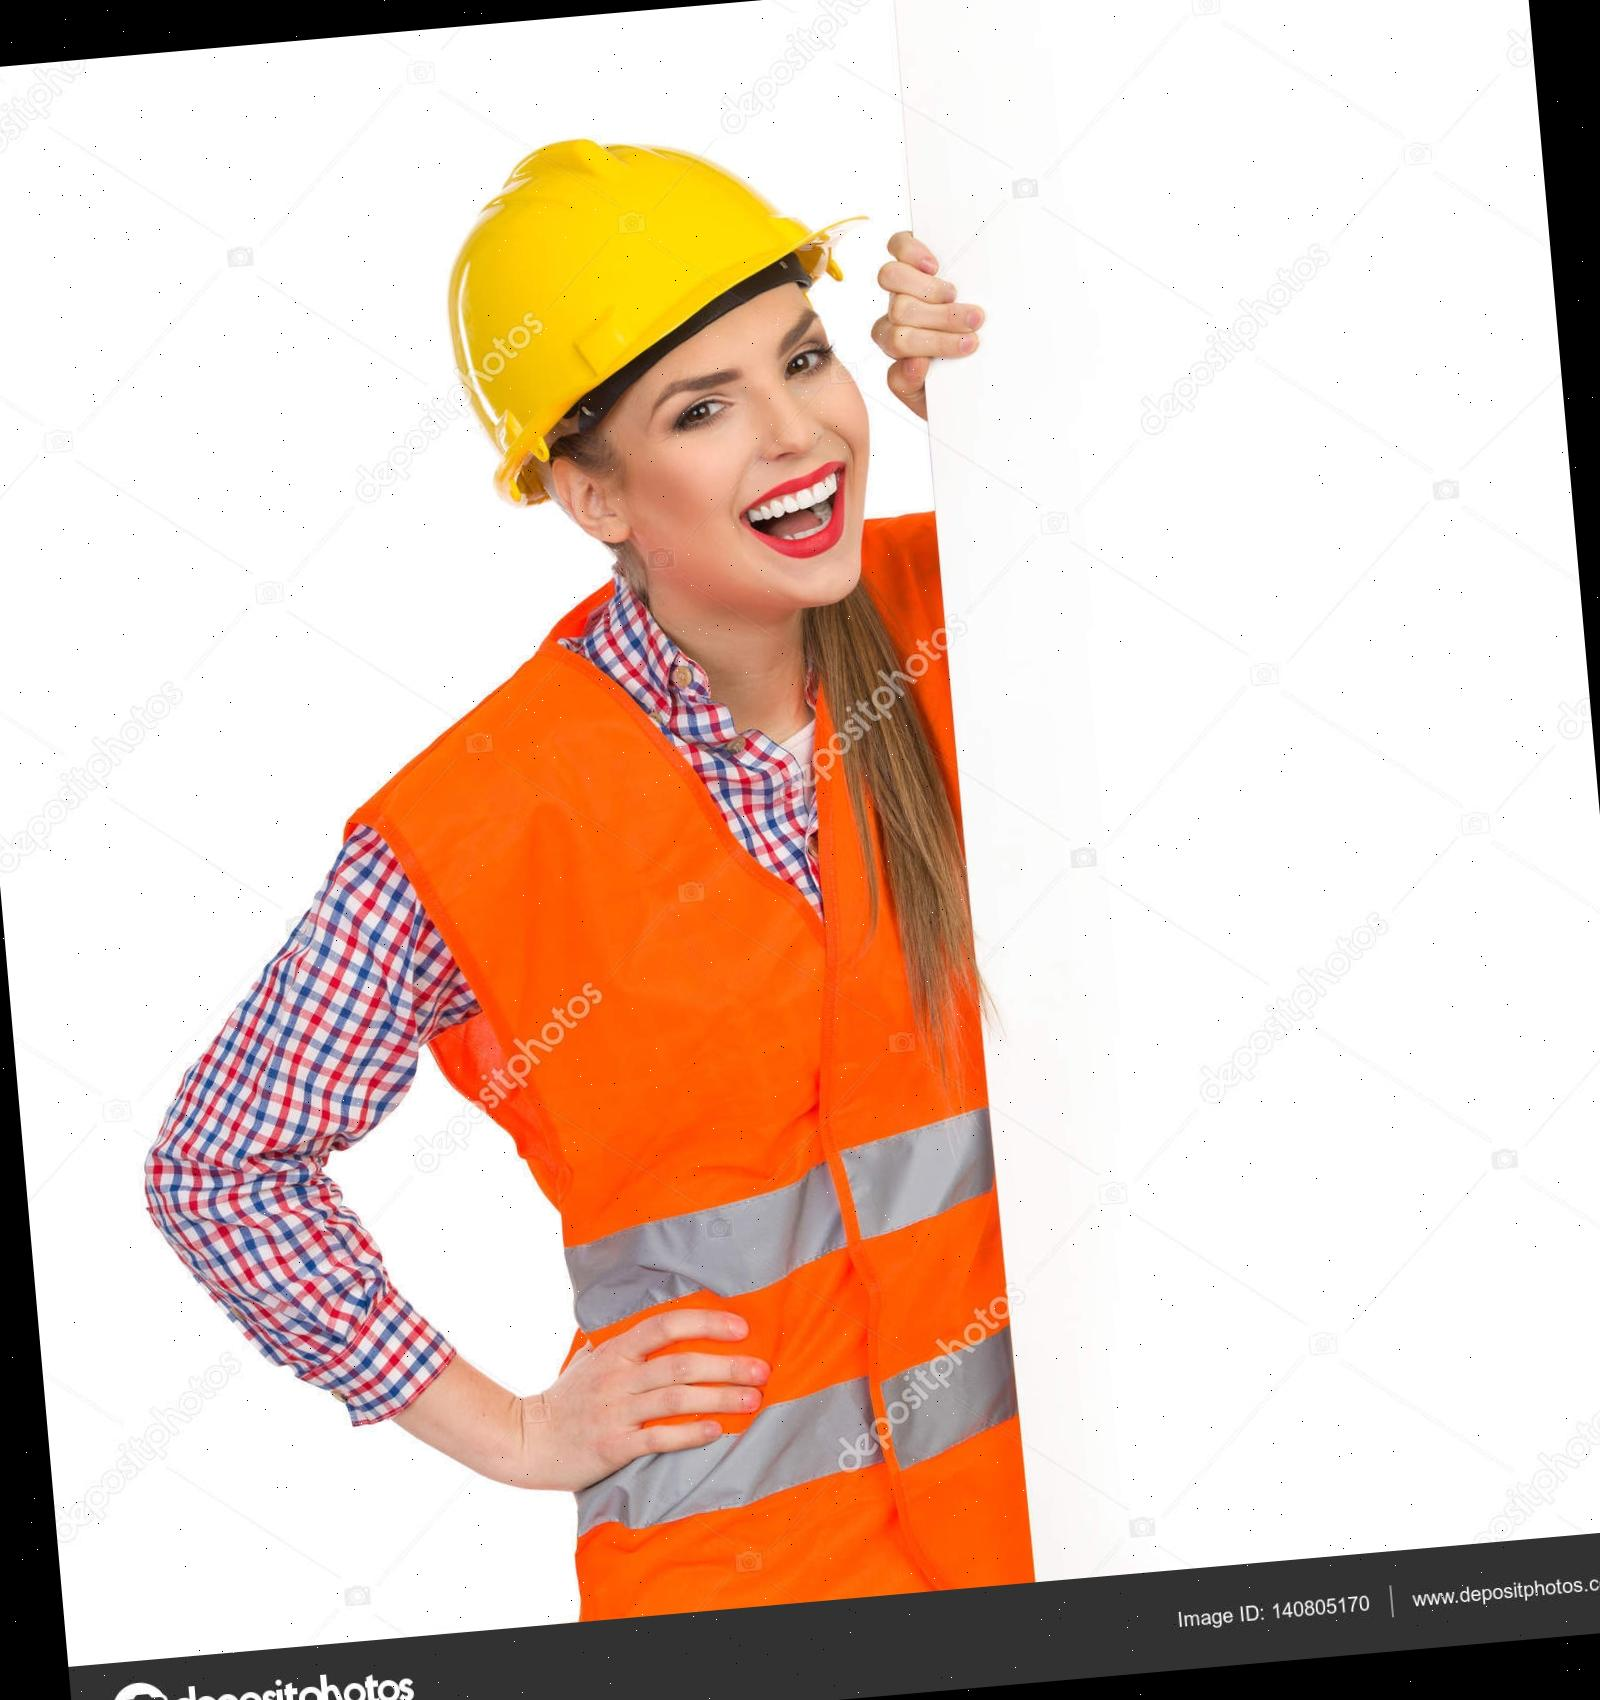helmet: (426, 120, 869, 511)
wear: (403, 619, 1038, 1631)
